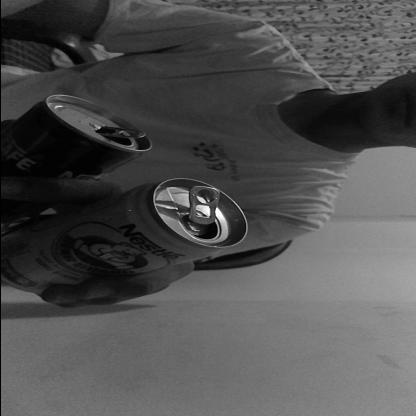alumunium_can: (20, 177, 244, 295), (13, 96, 148, 186)
